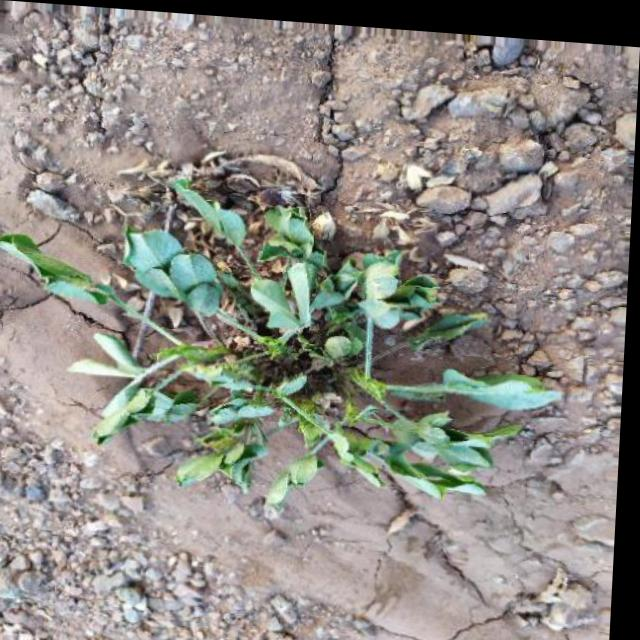weed: (51, 130, 564, 523)
